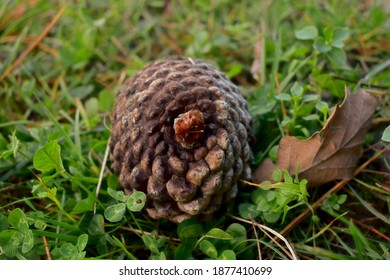Pc: (106, 61, 252, 220)
